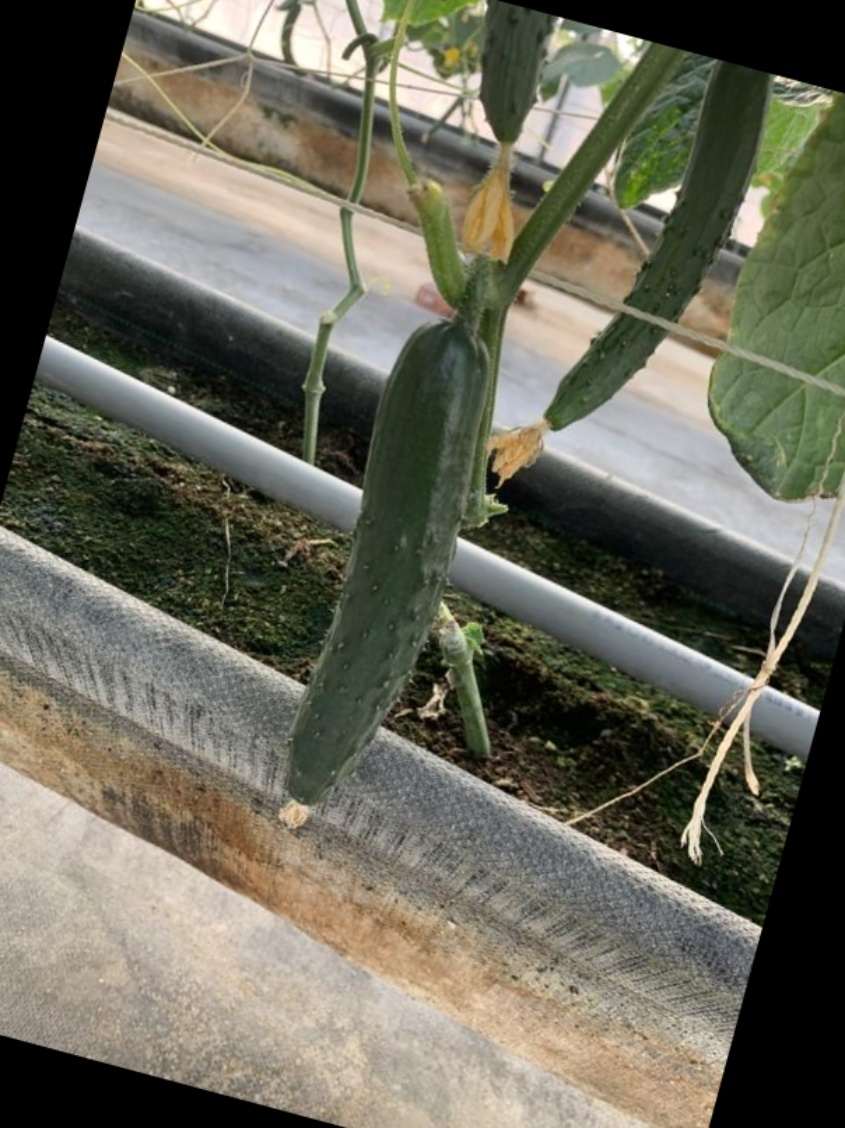mature: (268, 316, 498, 818)
